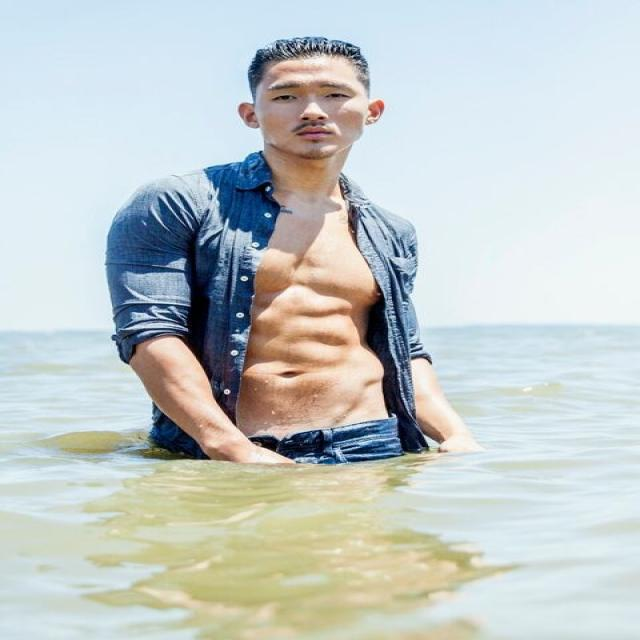human: (87, 30, 497, 478)
